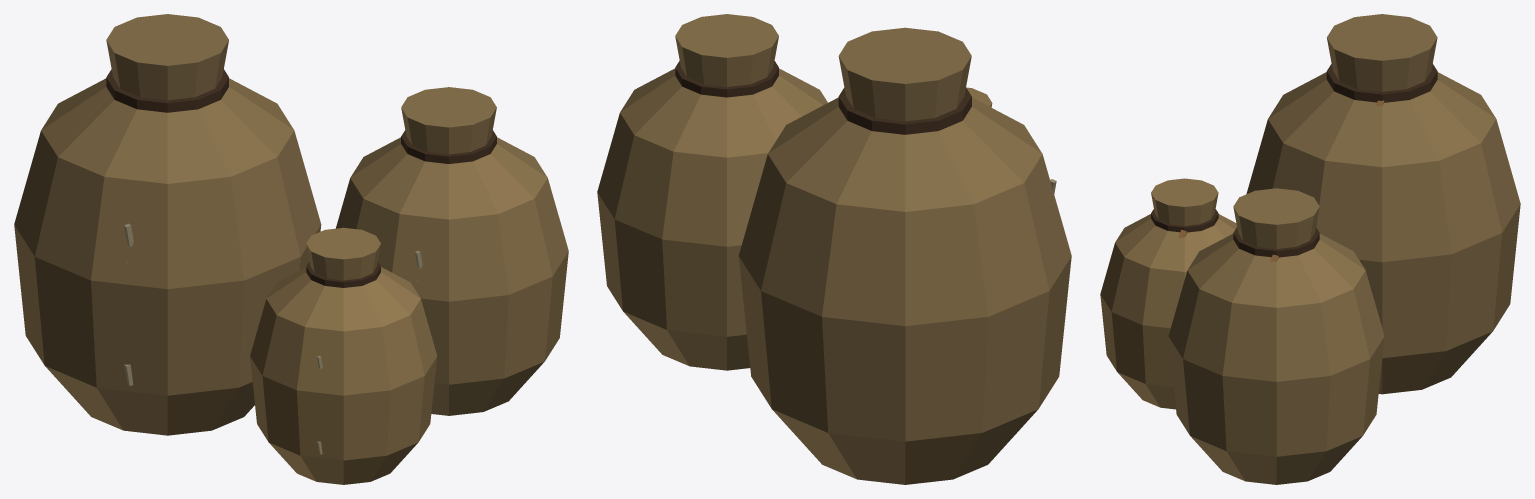
Rendered from sacks.glb.
3 views of the same model, side by side, from view 1: azimuth 30°, elevation 25°; view 2: azimuth 150°, elevation 25°; view 3: azimuth 270°, elevation 25° (orthographic). The views are drawn at different scales.
Parts seen in each view (by area): view 1: Fabric, Timber; view 2: Fabric, Timber; view 3: Fabric, Timber.
Boxes of the visible parts, x1,y1,x2,y2 form: Fabric: (14, 14, 568, 484); Timber: (106, 69, 496, 287); Fabric: (597, 14, 1071, 484); Timber: (675, 61, 971, 134); Fabric: (1100, 14, 1520, 484); Timber: (1151, 64, 1437, 261).
Size of the model in its own units: 1.38 by 1.03 by 1.21.
